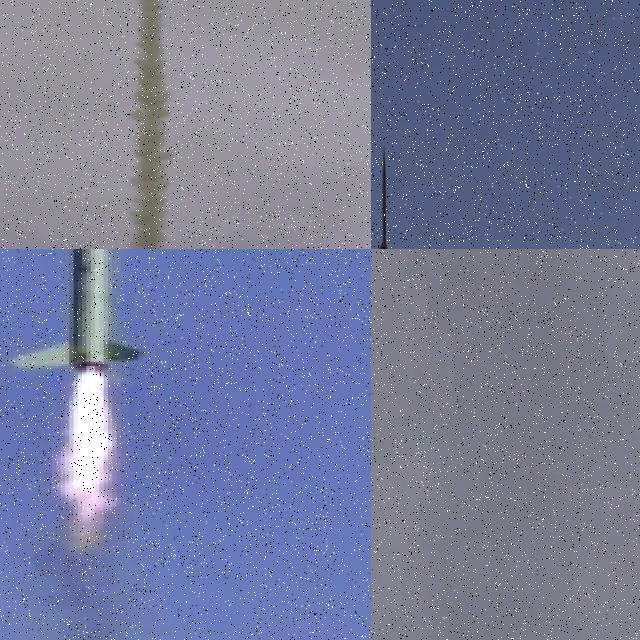Rocket: (0, 249, 162, 379), (379, 144, 388, 249)
